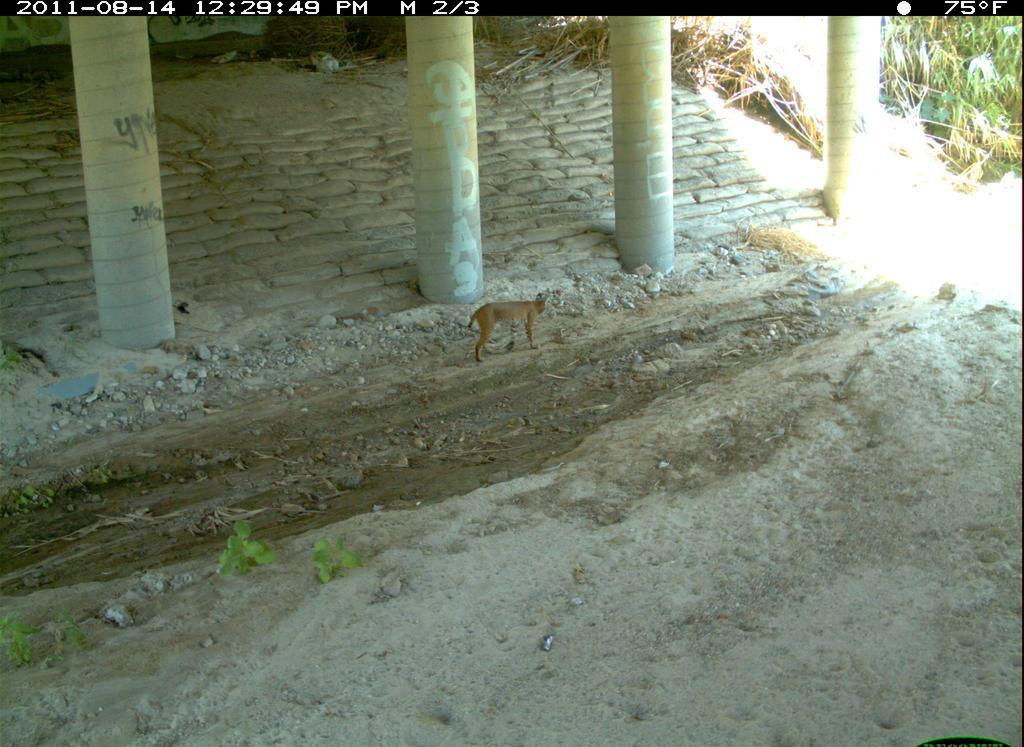bobcat: (928, 573, 1024, 737)
